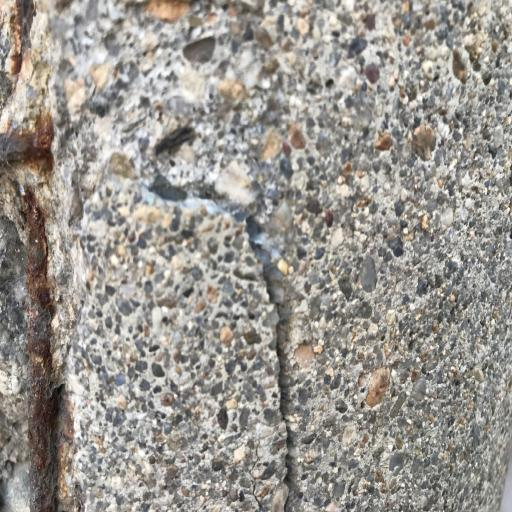exposed_rebar: (22, 188, 58, 510), (0, 112, 54, 169)
